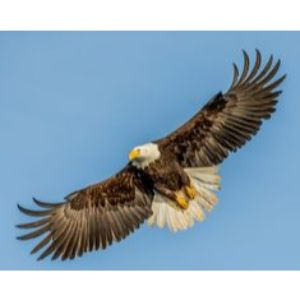eagle: (8, 46, 297, 265)
